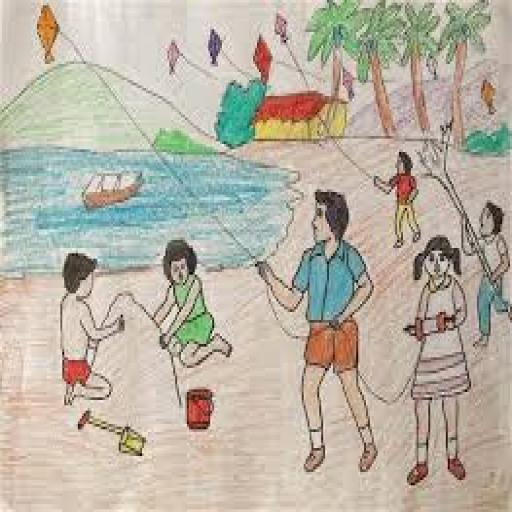person: (253, 179, 375, 484), (388, 234, 472, 492), (52, 244, 128, 424), (151, 236, 236, 374), (460, 191, 512, 355), (374, 145, 427, 252)
